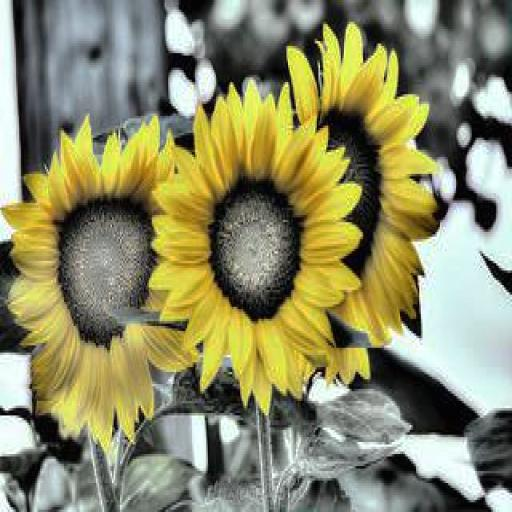sunflower: (154, 82, 355, 413), (4, 114, 198, 449), (276, 24, 446, 348)
